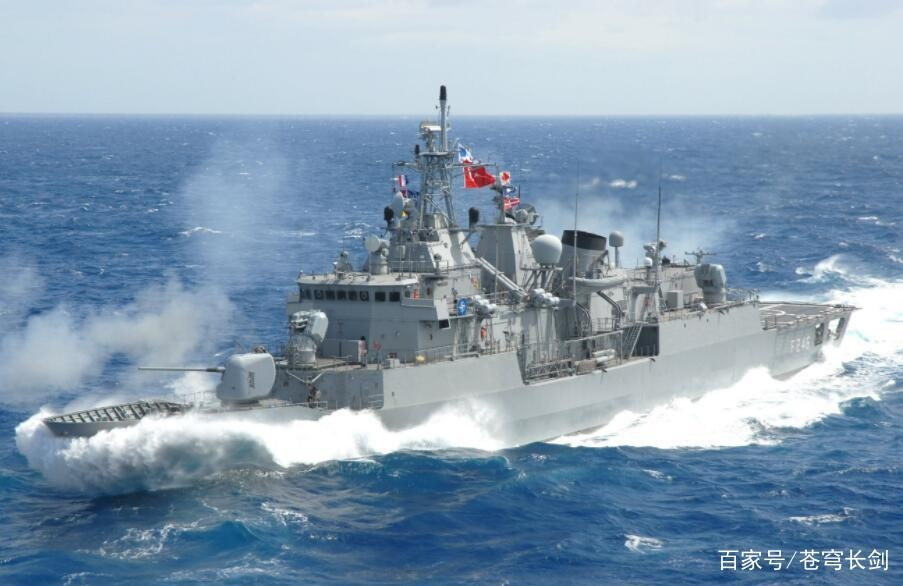warship: (27, 78, 858, 466)
